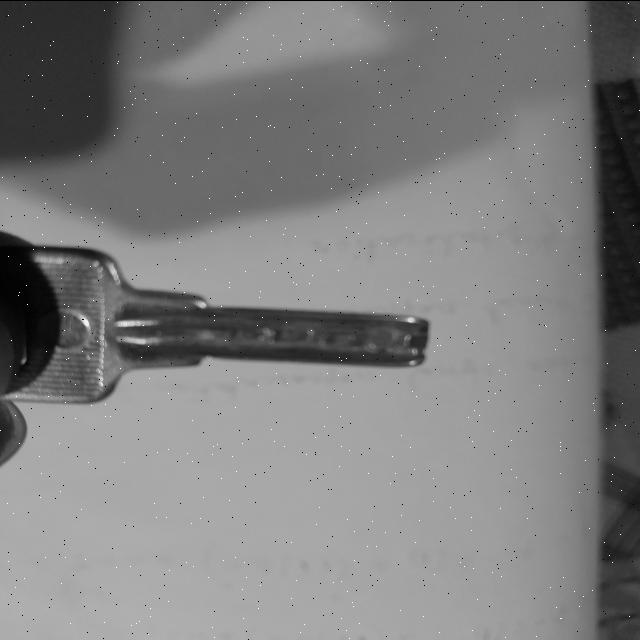key: (0, 244, 429, 403)
